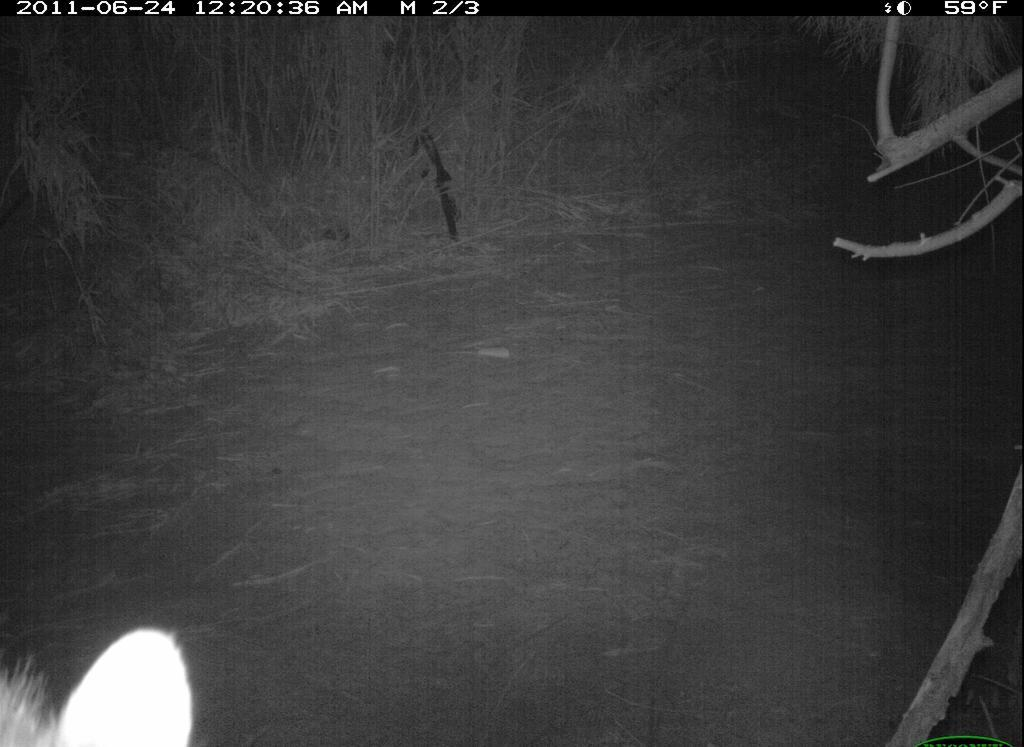raccoon: (3, 616, 204, 747)
